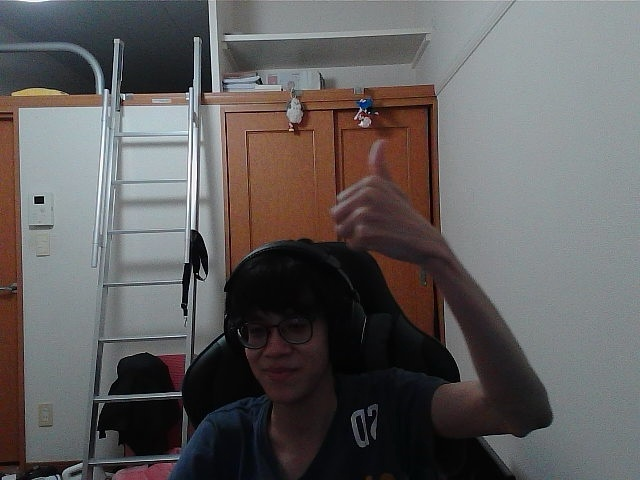thumb_up: (340, 154, 416, 245)
